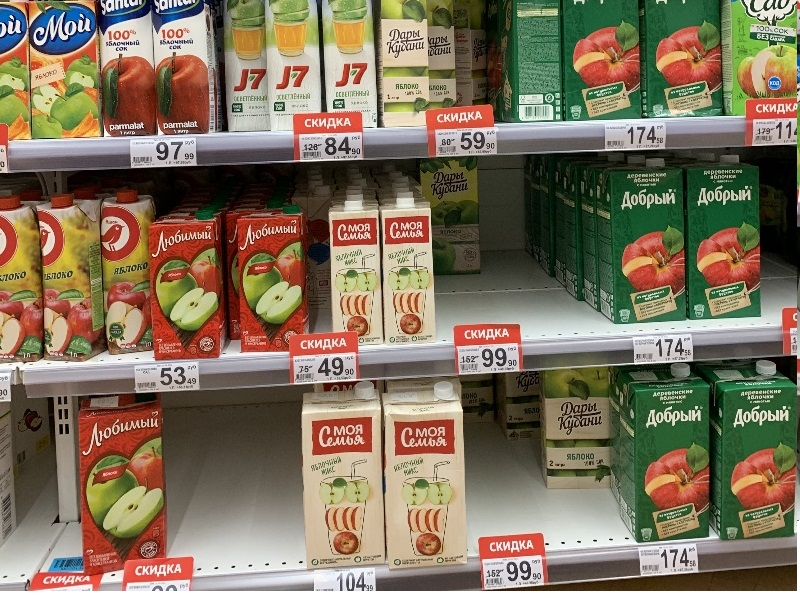juice: (61, 392, 180, 581), (613, 363, 718, 543), (713, 357, 796, 547), (607, 156, 694, 332), (32, 191, 115, 366), (686, 154, 769, 325), (142, 207, 228, 361), (230, 208, 318, 356), (92, 186, 163, 356)
